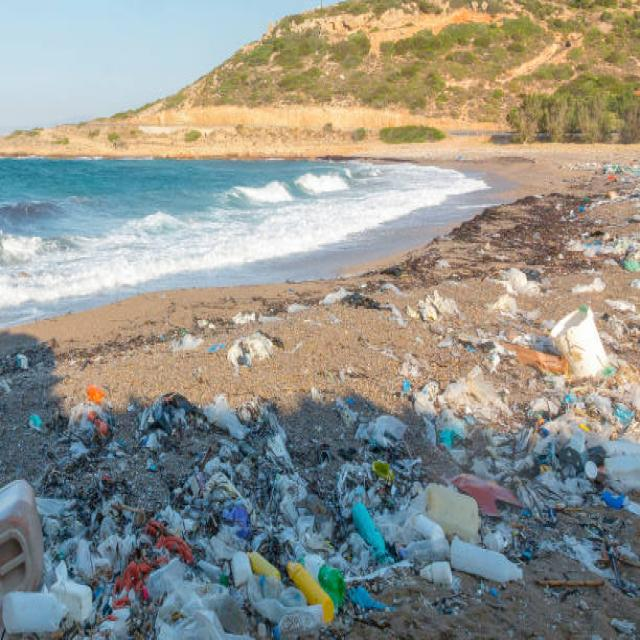trash: (49, 279, 616, 595)
